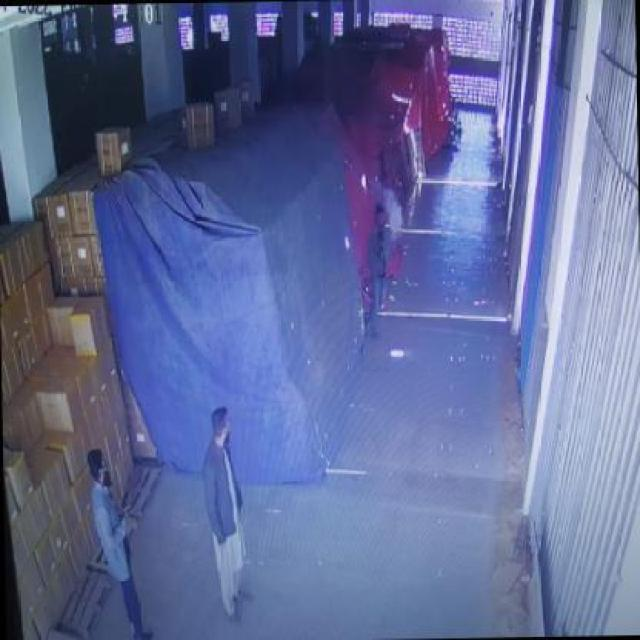fire: (382, 184, 404, 243)
